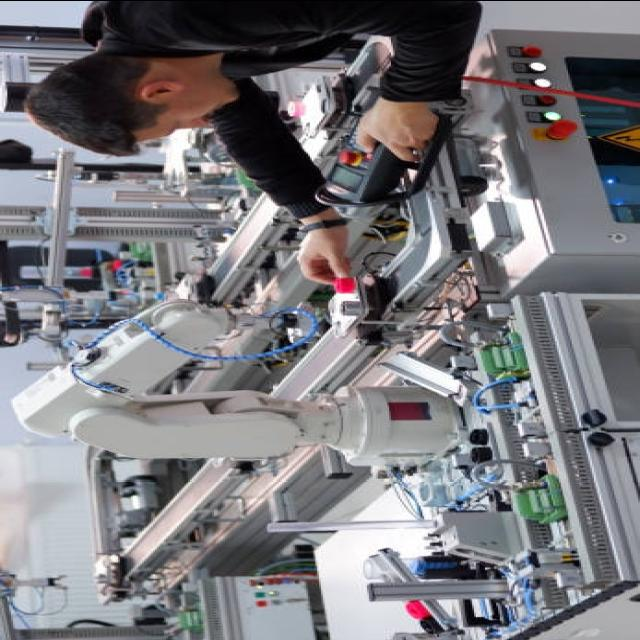Robotic-arm: (8, 289, 460, 476)
